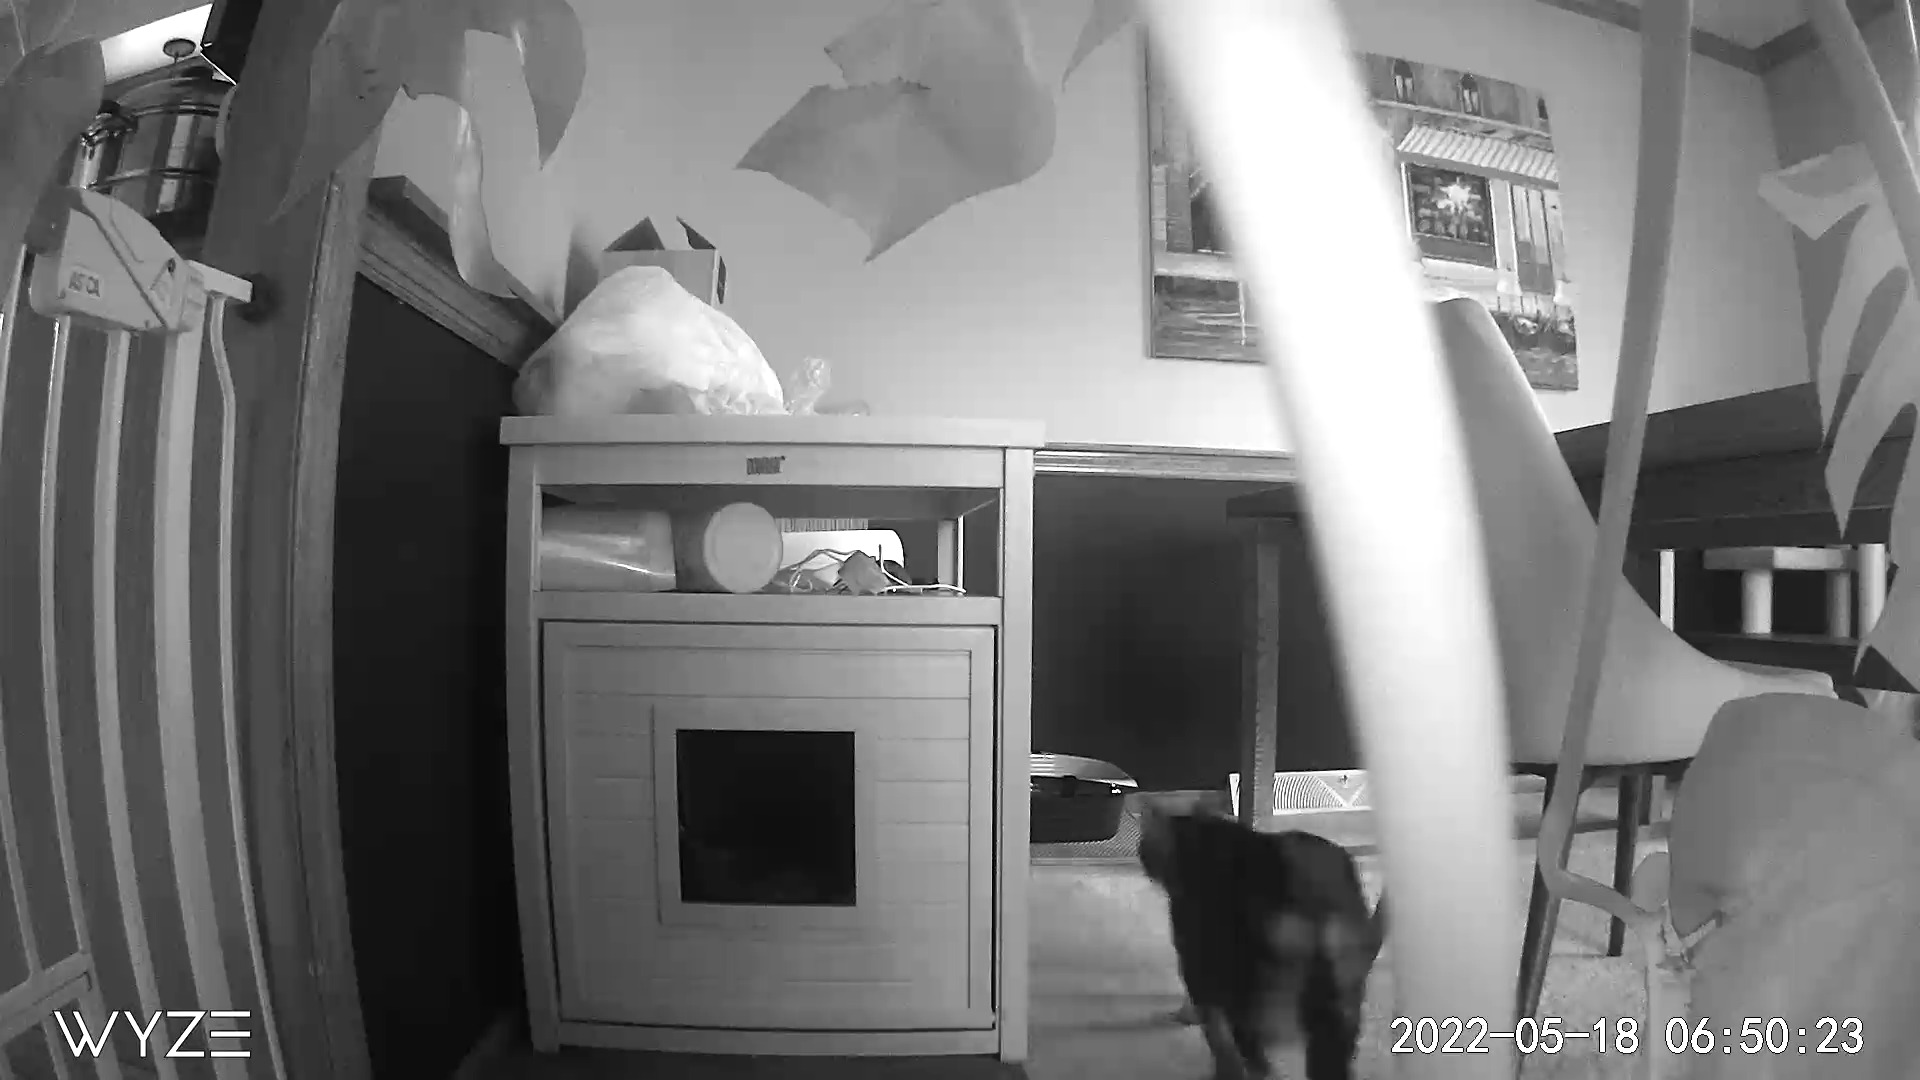sparky: (1126, 790, 1366, 1077)
